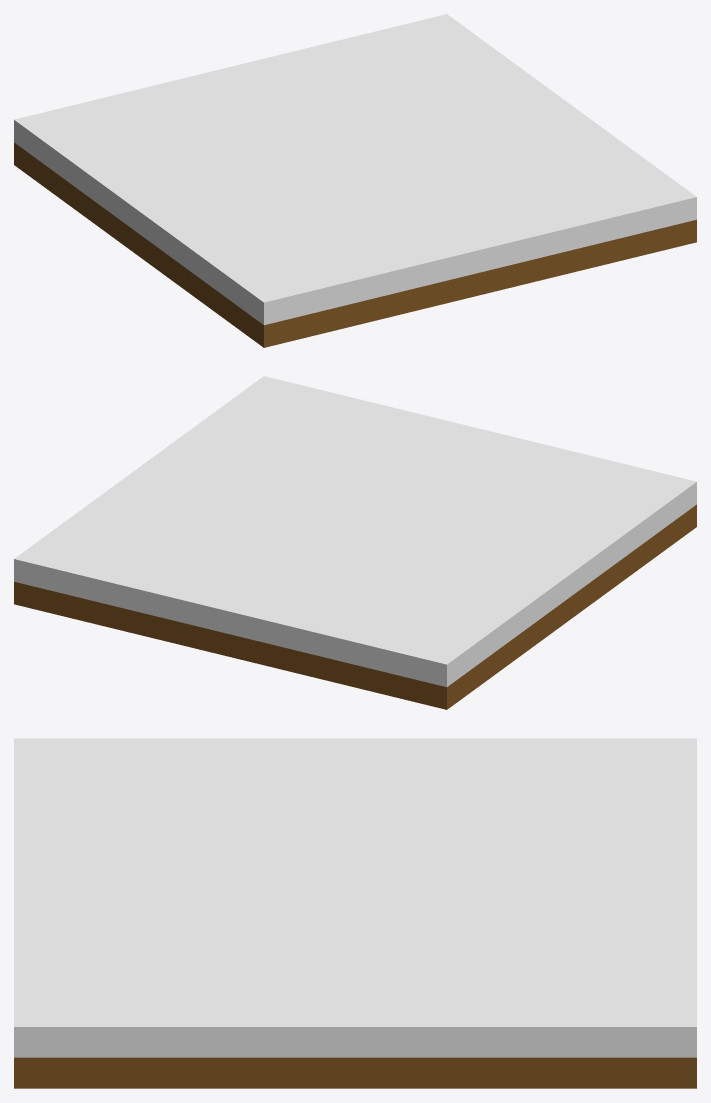
Rendered from WinterEmpty.fbx.
The picture shows the model from 3 angles, top to bottom: view 1: azimuth 30°, elevation 25°; view 2: azimuth 150°, elevation 25°; view 3: azimuth 270°, elevation 25°; orthographic projection. The views are drawn at different scales.
Visible parts, largest first — view 1: WinterEmpty; view 2: WinterEmpty; view 3: WinterEmpty.
Part boxes in pixels (<box>): WinterEmpty: <box>14,14,696,347</box>; WinterEmpty: <box>14,376,696,709</box>; WinterEmpty: <box>14,738,696,1088</box>.
Bounding box in the file's own units: 1 × 0.1 × 1.
